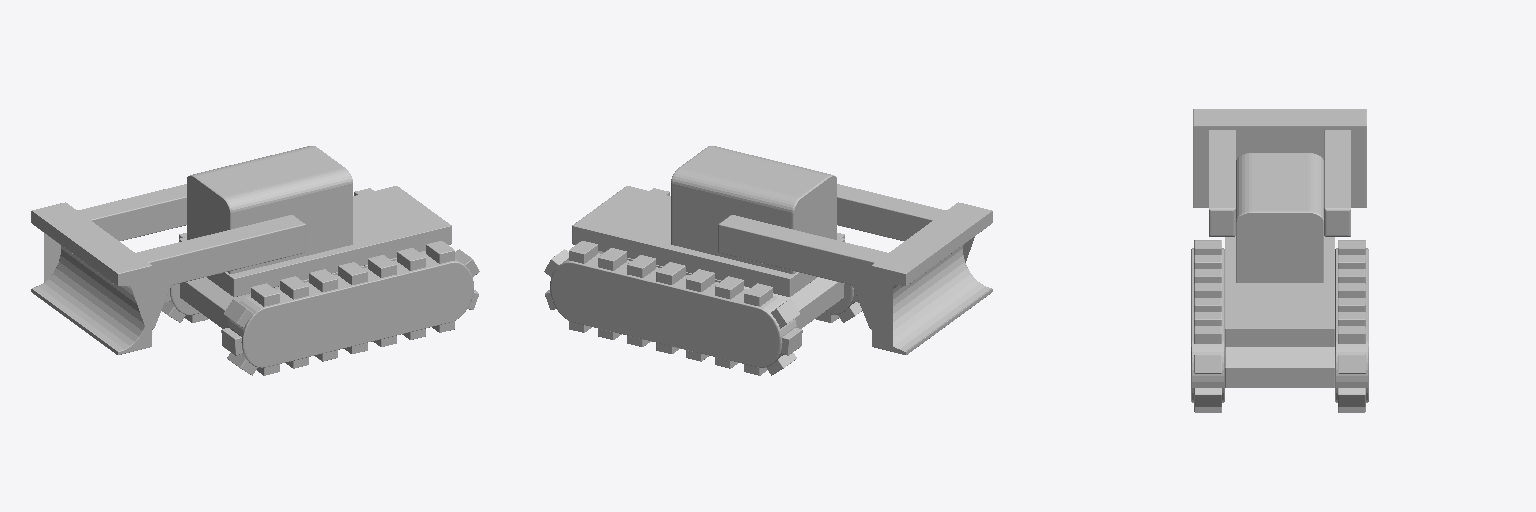
File: Dozer.obj
The picture shows the model from 3 angles: view 1: azimuth 30°, elevation 25°; view 2: azimuth 150°, elevation 25°; view 3: azimuth 270°, elevation 25°; orthographic projection.
Visible parts, largest first — view 1: Cube, Cylinder_Cylinder.002, Cube.002_Cube.003, Cube.001_Cube.002, Cube.003_Cube.005; view 2: Cube, Cylinder_Cylinder.002, Cube.002_Cube.003, Cube.001_Cube.002, Cube.003_Cube.005; view 3: Cube, Cube.003_Cube.005, Cube.002_Cube.003, Cube.001_Cube.002, Cylinder_Cylinder.002.
Part boxes in pixels (x1,y1,x2,y2): Cube: (179, 146, 451, 328); Cylinder_Cylinder.002: (169, 253, 473, 367); Cube.002_Cube.003: (31, 202, 151, 354); Cube.001_Cube.002: (77, 184, 305, 329); Cube.003_Cube.005: (162, 188, 479, 375); Cube: (572, 146, 844, 328); Cylinder_Cylinder.002: (550, 253, 854, 367); Cube.002_Cube.003: (872, 202, 992, 354); Cube.001_Cube.002: (718, 184, 946, 329); Cube.003_Cube.005: (544, 188, 861, 375); Cube: (1225, 153, 1334, 387); Cube.003_Cube.005: (1194, 240, 1365, 412); Cube.002_Cube.003: (1193, 109, 1366, 207); Cube.001_Cube.002: (1209, 130, 1350, 236); Cylinder_Cylinder.002: (1191, 248, 1368, 402).
Bounding box in the file's own units: 5.9 × 2.5 × 2.5.